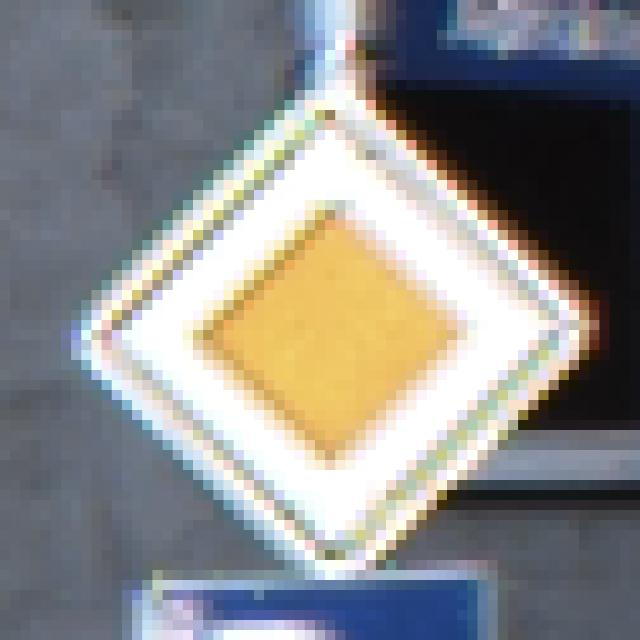Main Road: (52, 61, 590, 591)
